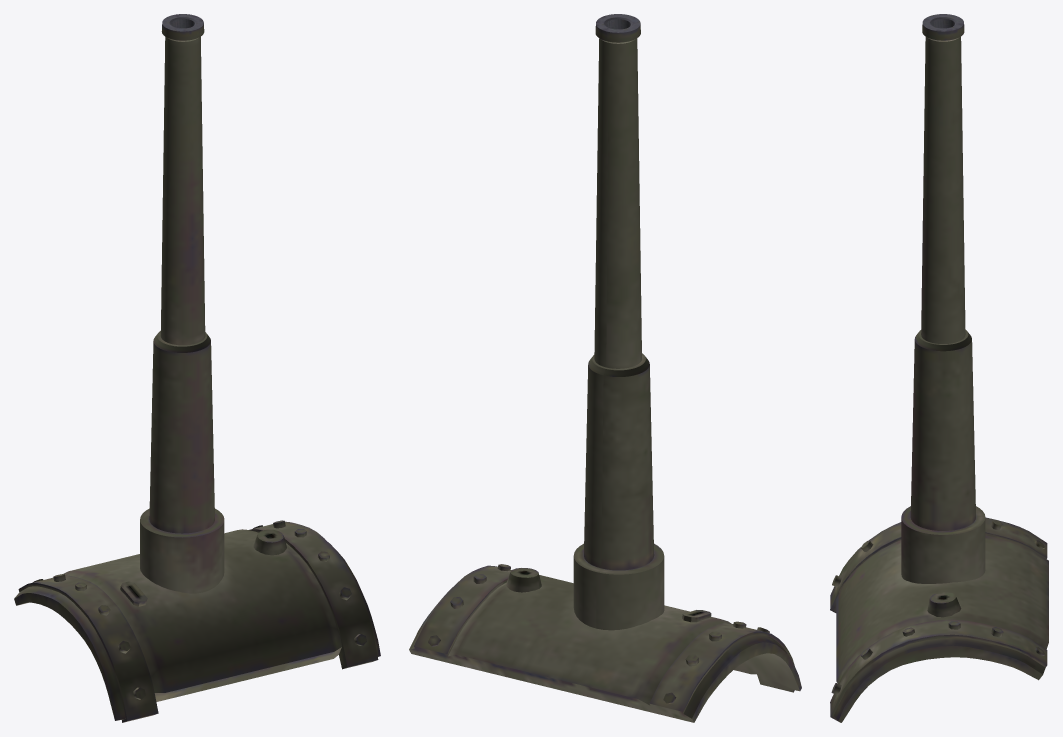
File: Gun_04.glb
The picture shows the model from 3 angles, left to right: view 1: azimuth 30°, elevation 25°; view 2: azimuth 150°, elevation 25°; view 3: azimuth 270°, elevation 25°; orthographic projection. The views are drawn at different scales.
Visible parts, largest first — view 1: set_0_group_0; view 2: set_0_group_0; view 3: set_0_group_0.
Part boxes in pixels (<box>): set_0_group_0: <box>14,14,380,722</box>; set_0_group_0: <box>409,14,801,722</box>; set_0_group_0: <box>830,14,1048,722</box>.
Size of the model in its own units: 0.5861 by 1.34 by 0.4212.
Materials: 1 (1 with a texture image).
